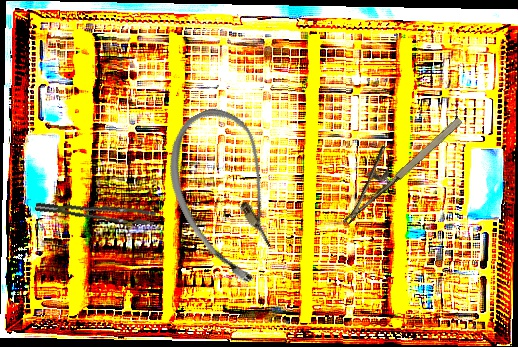Cannula: (146, 96, 311, 295)
Needle Holder: (322, 97, 466, 226)
Tissue Forceps: (34, 185, 157, 238)
